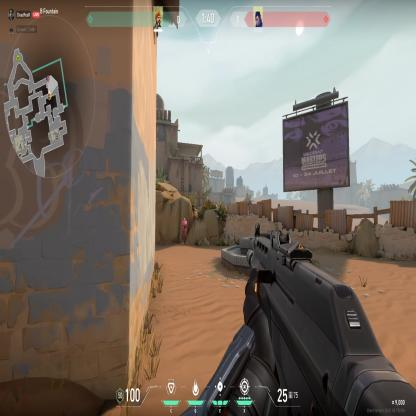enemy: (181, 216, 187, 245)
